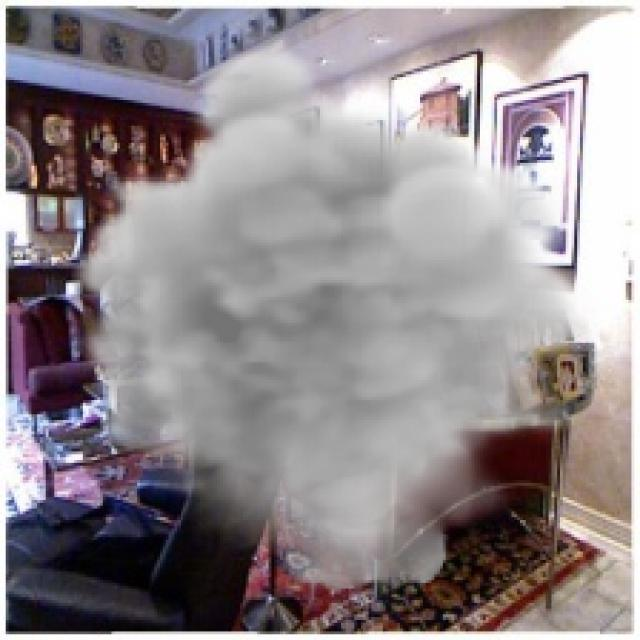Smoke: (72, 39, 598, 594)
